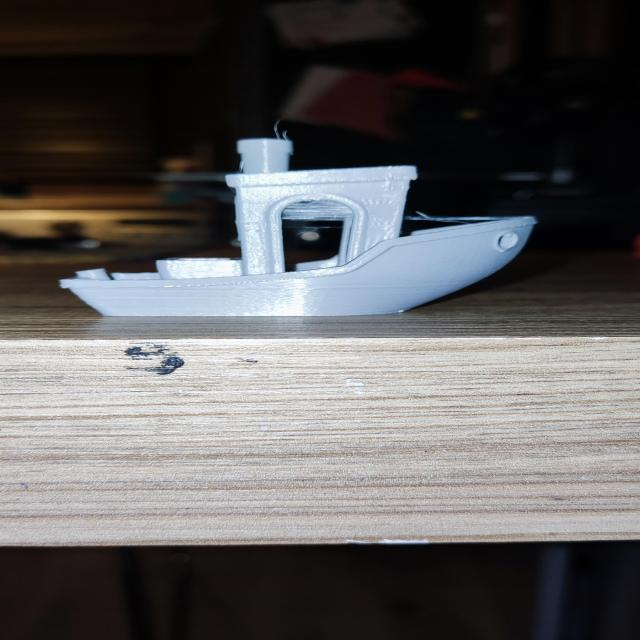Stringing: (282, 204, 352, 223)
